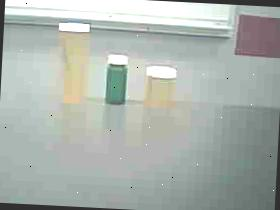Bottle A: (47, 14, 100, 109)
Bottle B: (141, 60, 181, 115)
Bottle C: (102, 52, 133, 107)
